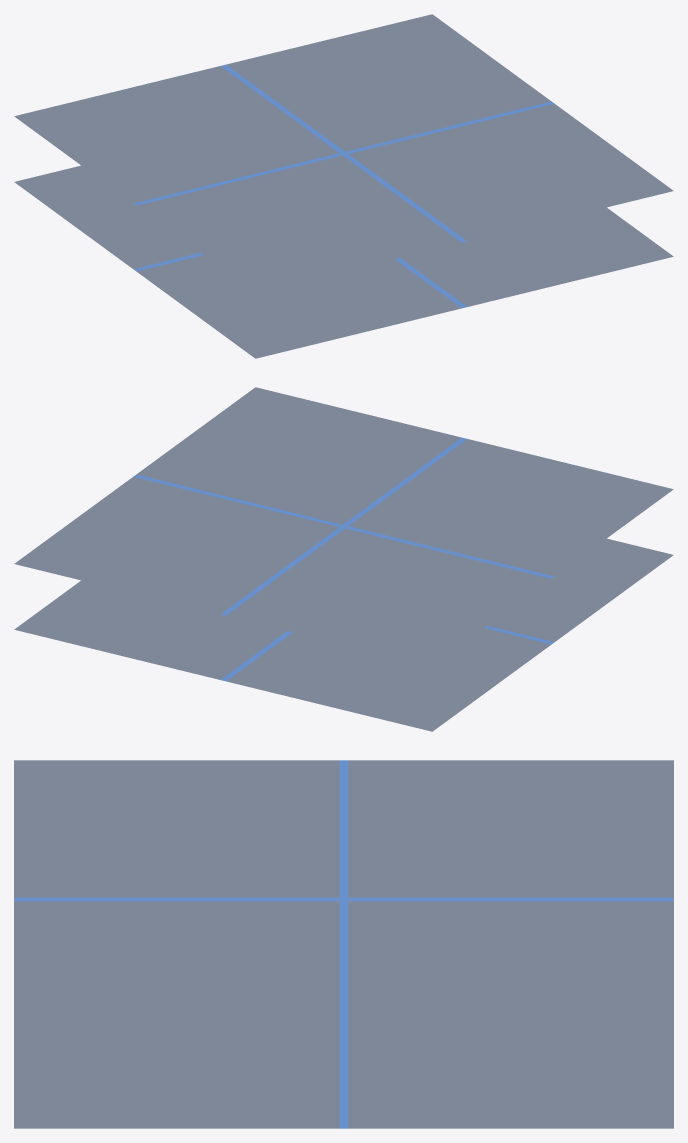
File: moduloPlataformaCenter.fbx
3 renders of one model, top to bottom at view 1: azimuth 30°, elevation 25°; view 2: azimuth 150°, elevation 25°; view 3: azimuth 270°, elevation 25°, orthographic. The views are drawn at different scales.
Visible parts, largest first — view 1: PlatformCenter; view 2: PlatformCenter; view 3: PlatformCenter.
Boxes of the visible parts, left/top/right/bottom form: PlatformCenter: left=14, top=14, right=673, bottom=358; PlatformCenter: left=14, top=387, right=673, bottom=731; PlatformCenter: left=14, top=760, right=673, bottom=1128.
Bounding box in the file's own units: 333 × 50 × 333.
1 material, 1 textured.
